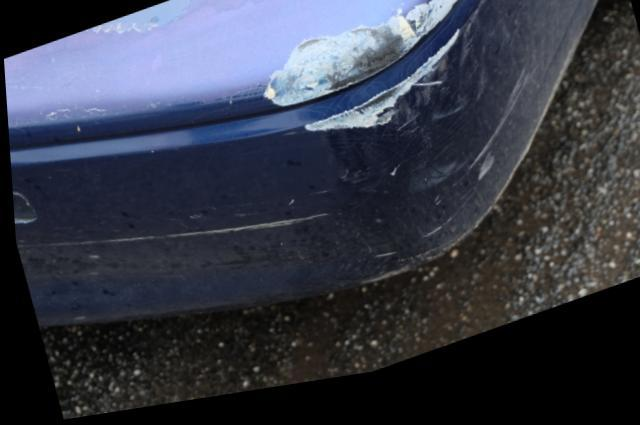scratch: (263, 0, 504, 148)
